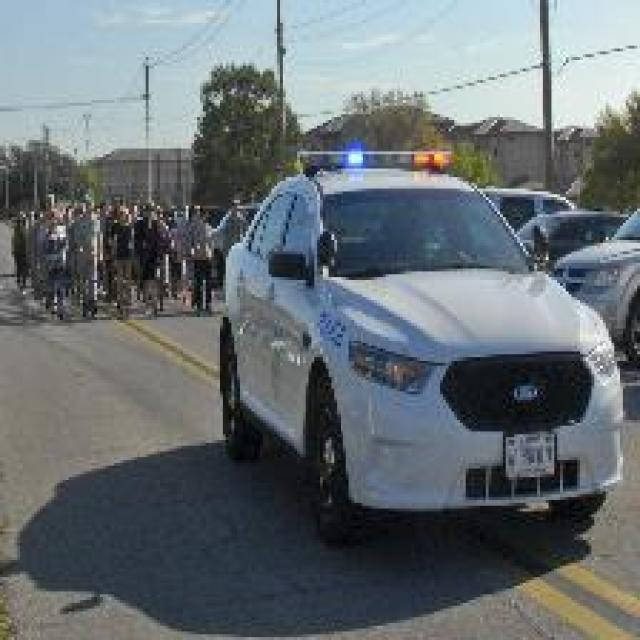emergency: (215, 148, 627, 542)
